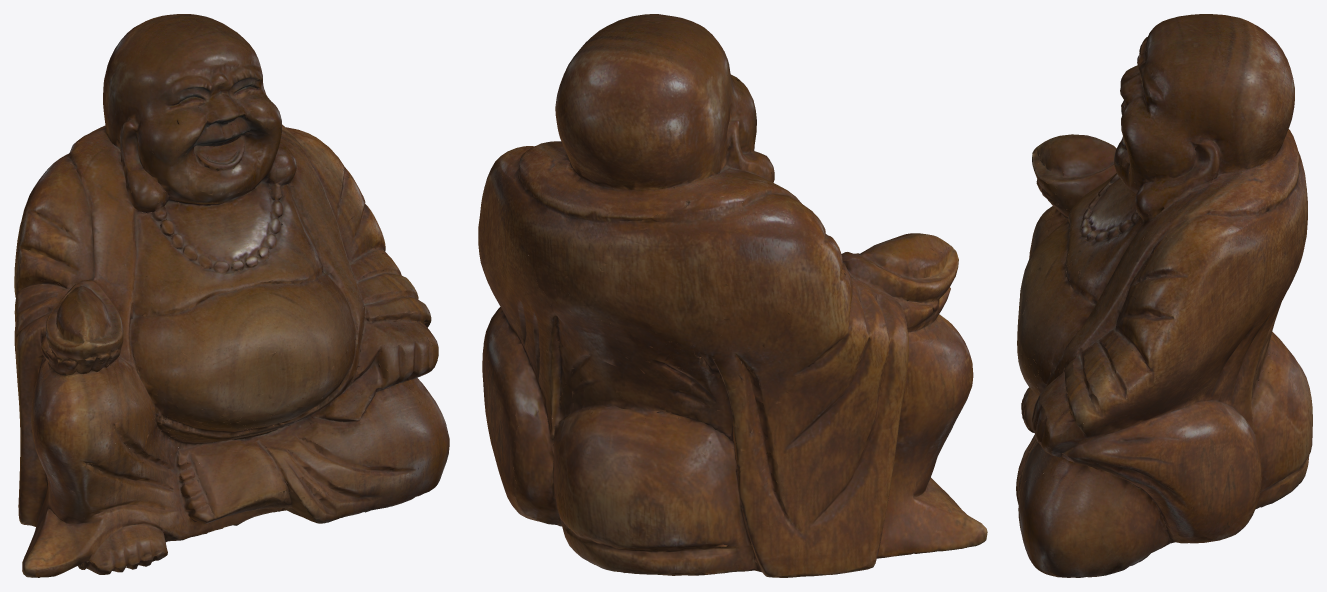
3 views of the same model, side by side, from view 1: azimuth 30°, elevation 25°; view 2: azimuth 150°, elevation 25°; view 3: azimuth 270°, elevation 25° (orthographic). The views are drawn at different scales.
Parts seen in each view (by area): view 1: statue-024; view 2: statue-024; view 3: statue-024.
Boxes of the visible parts, bbox=[...] form: statue-024: bbox=[14, 14, 449, 577]; statue-024: bbox=[478, 14, 987, 577]; statue-024: bbox=[1016, 14, 1312, 577].
Size of the model in its own units: 0.977 by 1 by 0.5773.
1 material, 1 textured.
